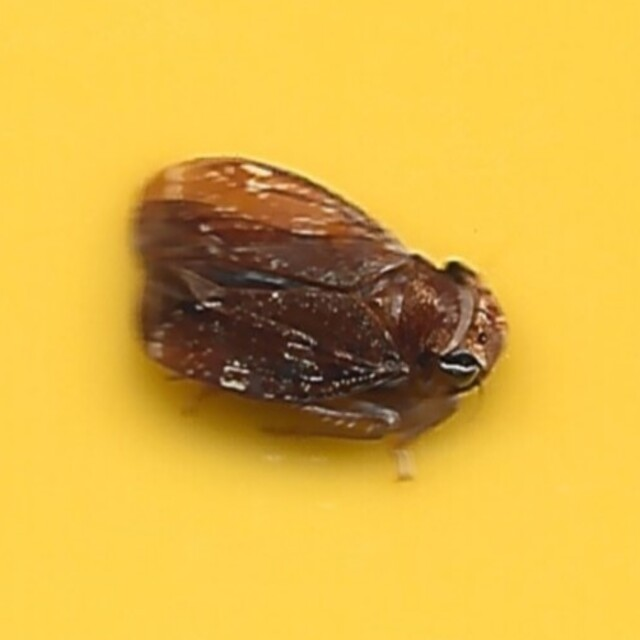Hemiptera: (127, 155, 513, 485)
